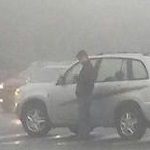person: (71, 49, 97, 140)
